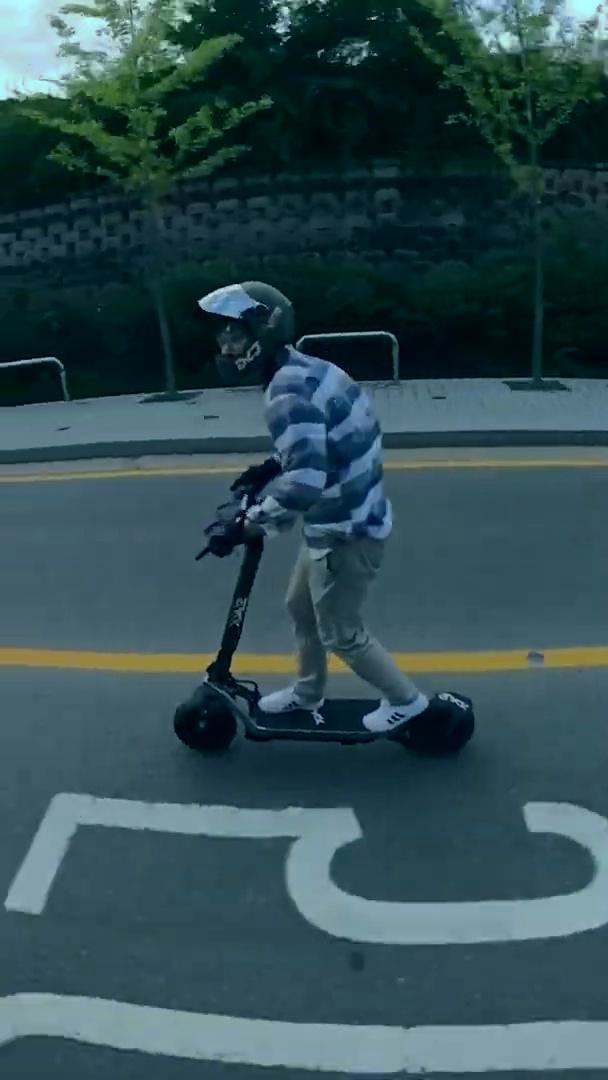helmet: (166, 278, 479, 762)
